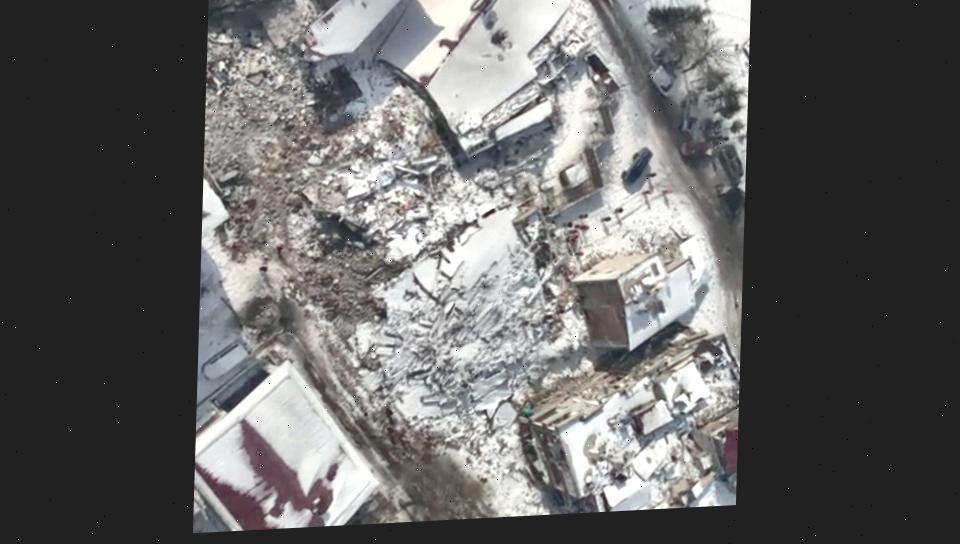kapali: (203, 24, 443, 473)
